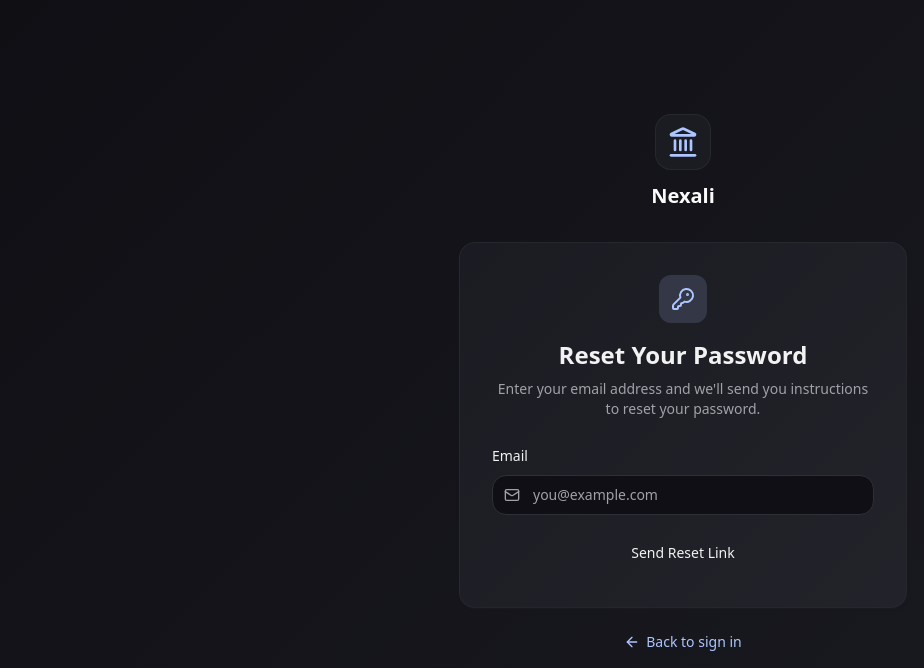
Test: ForgotPassword › disables the submit button while the request is pending
This screenshot has width=924, height=668.
Type "jane@example.com" into the field labelled "Email". click: (683, 494)
box: [492,474,874,514]
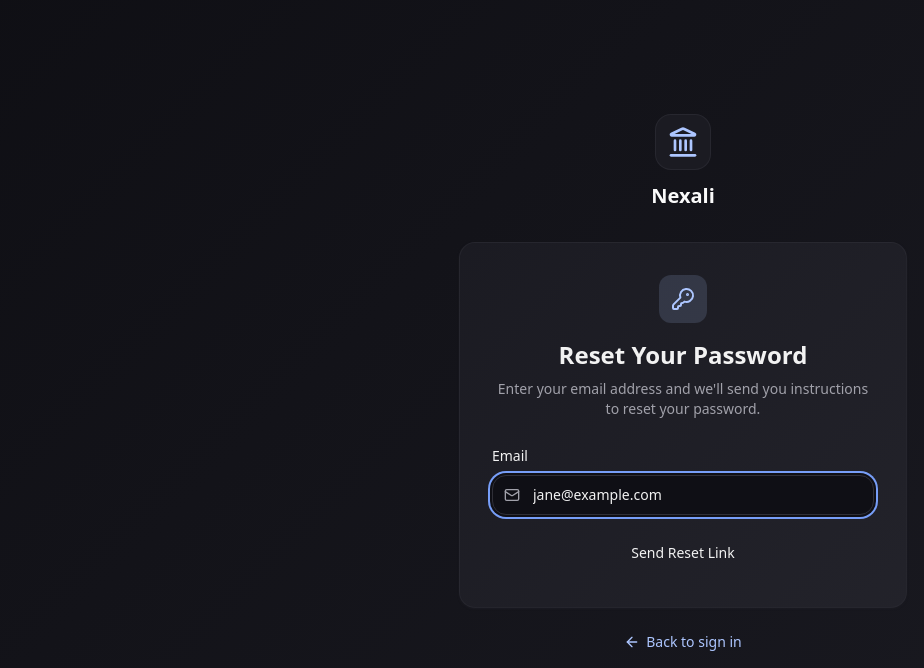
Click the button "Send Reset Link". click: (683, 552)
box: [492,530,874,574]
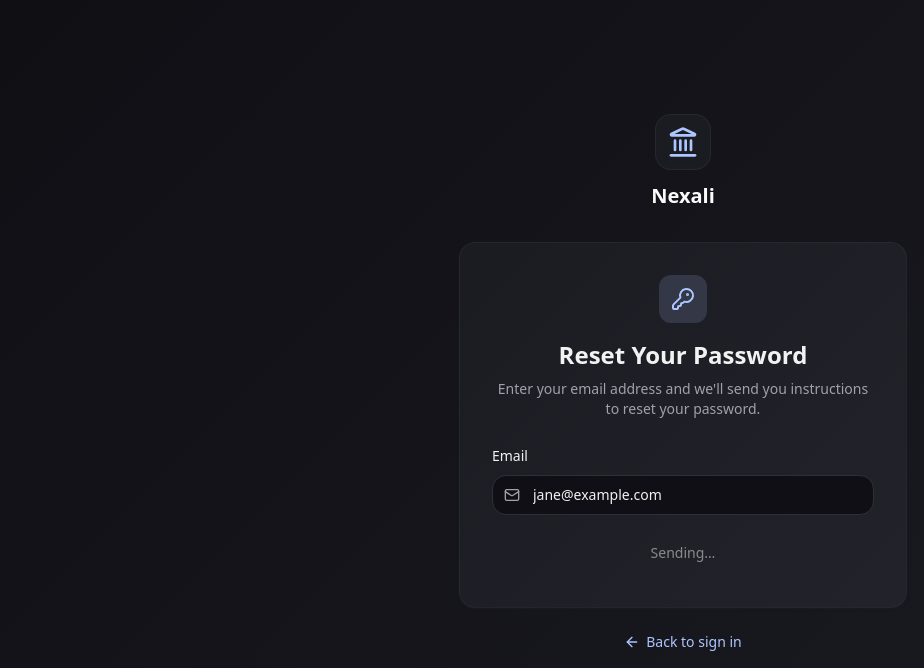
Result: the button "Sending…" is disabled at [492,530,874,574]
